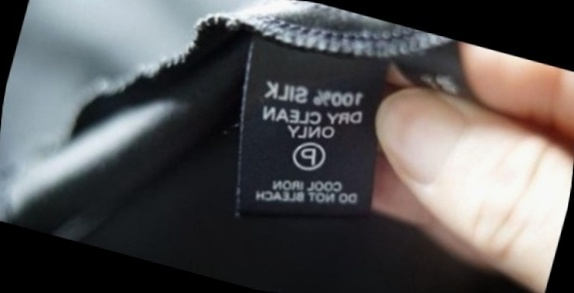dry_clean_any_solvent_except_trichloroethylene: (284, 133, 332, 178)
